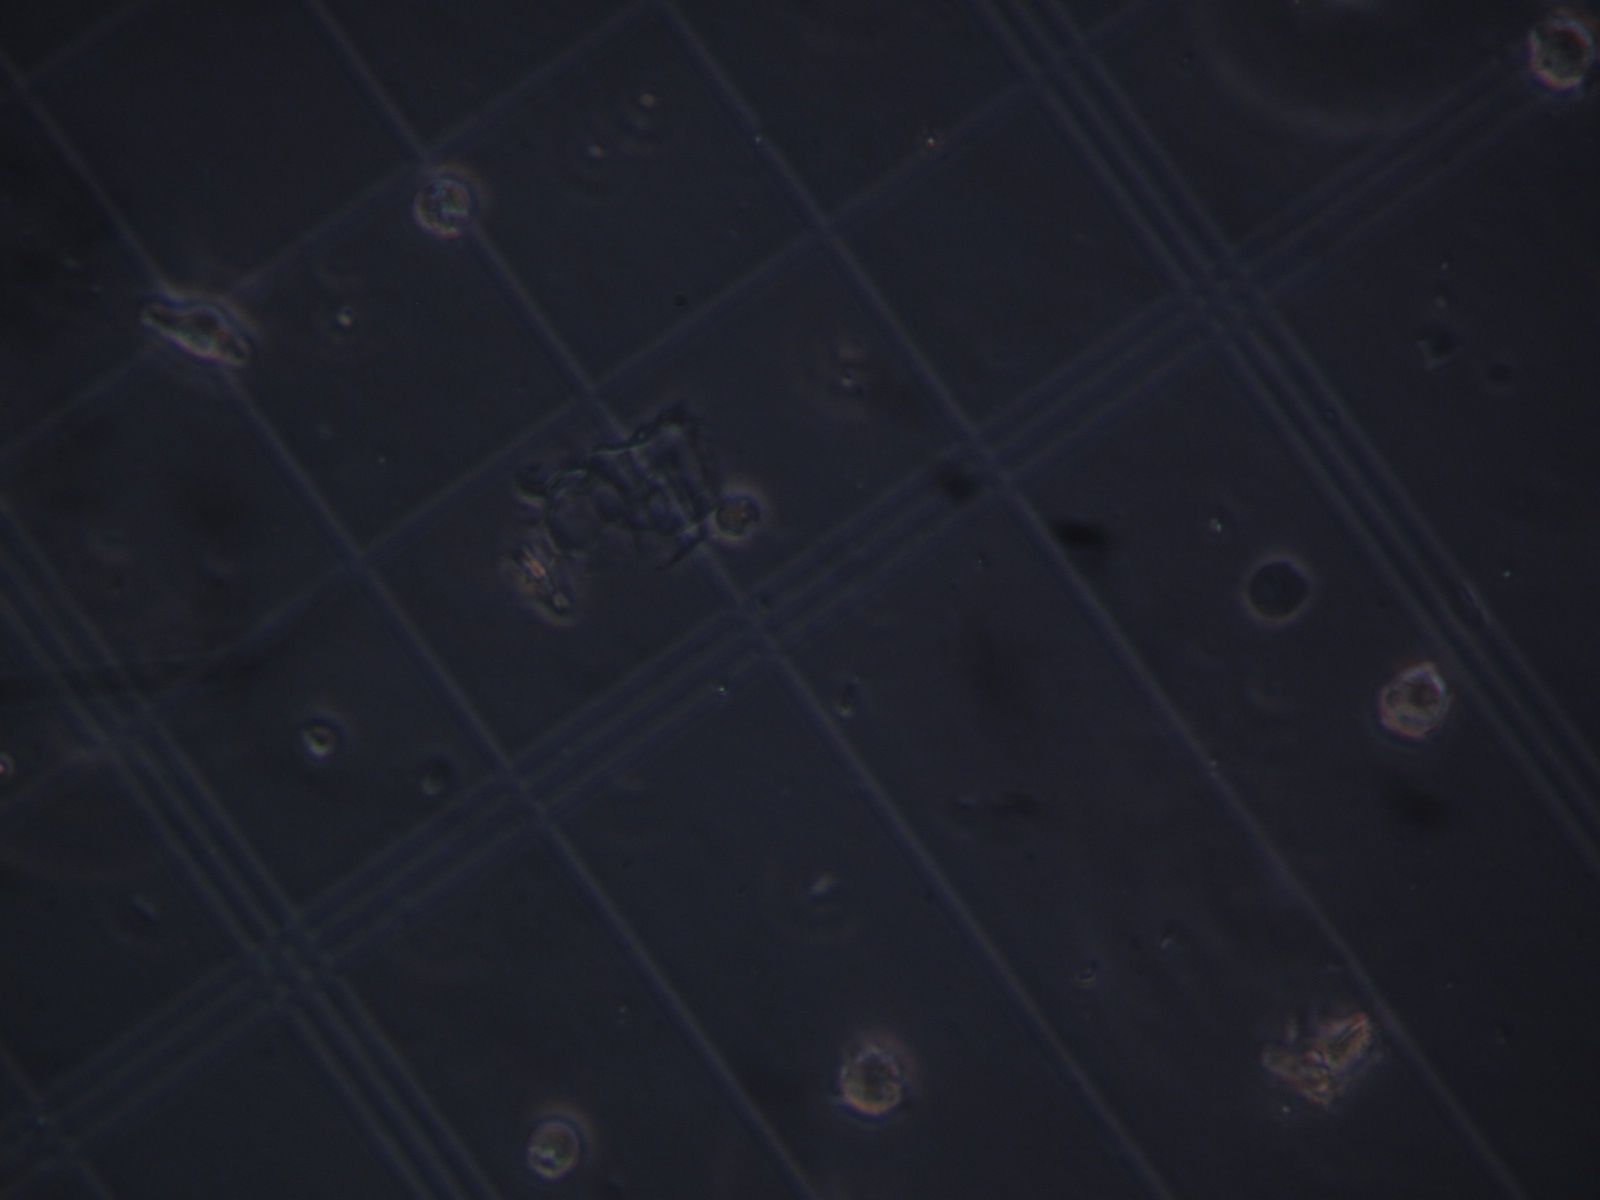hemo: (129, 277, 260, 376), (839, 1029, 916, 1114), (1524, 8, 1597, 92), (523, 1103, 595, 1181), (417, 166, 488, 242), (1243, 551, 1314, 625), (1382, 664, 1451, 739), (706, 483, 770, 543)
